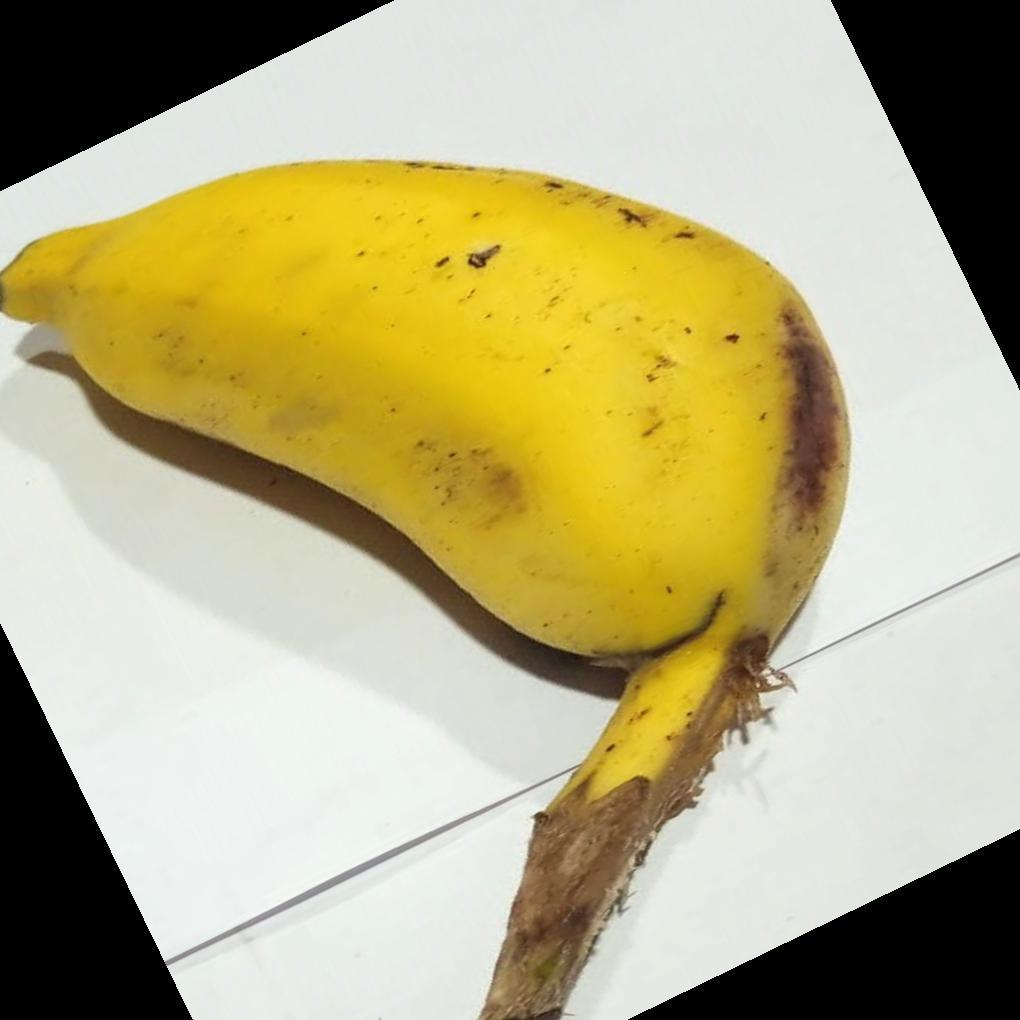Banana Ripe: (2, 151, 884, 996)
